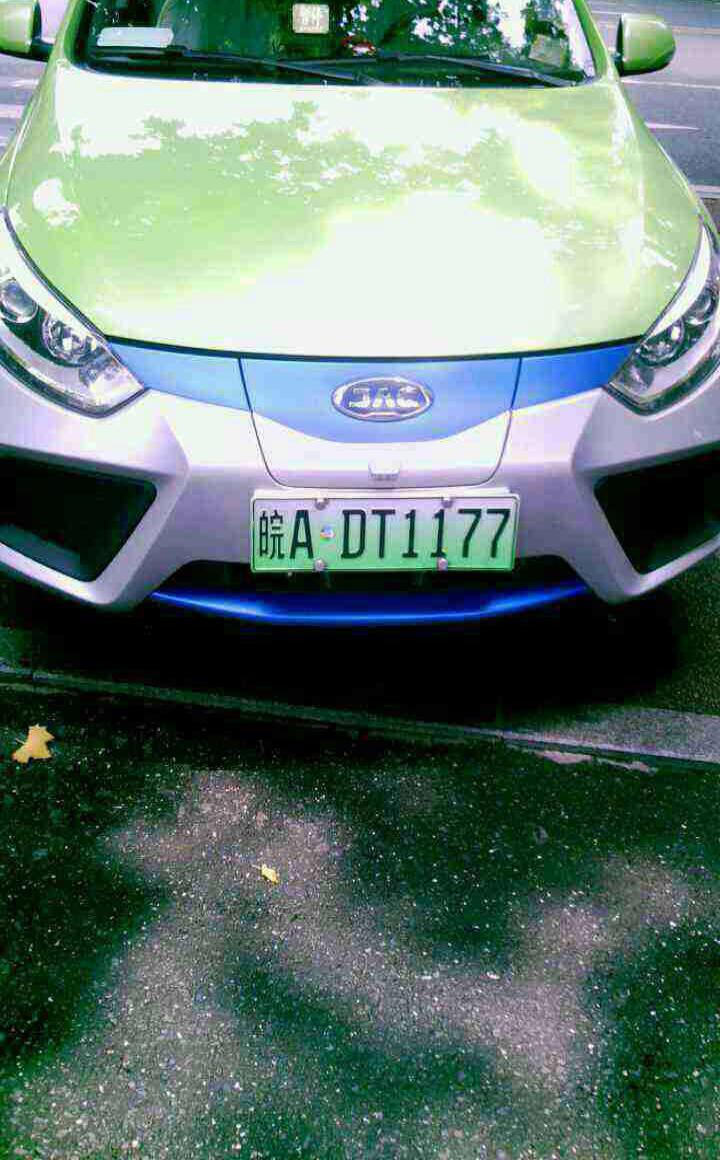car_id: (253, 491, 523, 574)
